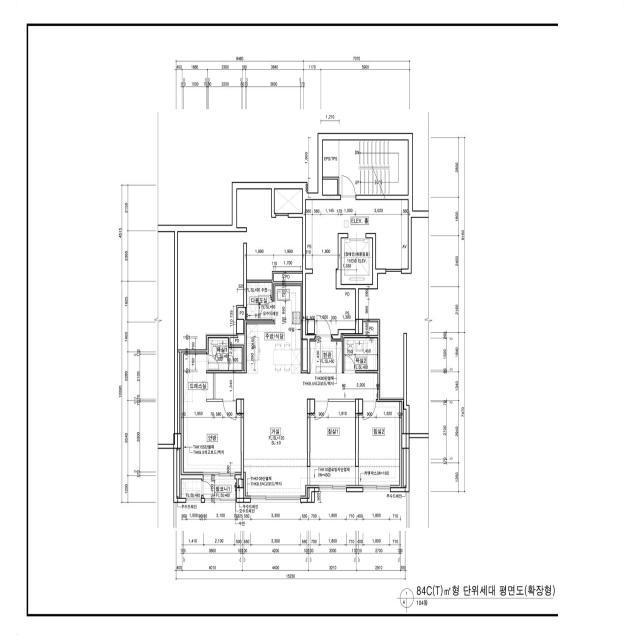space_balconi: (203, 479, 236, 498)
space_bedroom: (181, 402, 241, 474), (310, 402, 355, 487), (358, 402, 402, 487)
space_dressroom: (181, 352, 213, 399)
space_elevator: (341, 238, 372, 284)
space_elevator_hall: (306, 200, 401, 334)
space_front: (310, 337, 342, 373)
space_kitchen: (246, 284, 302, 373)
space_living_room: (215, 373, 378, 498)
space_multipurpose_space: (247, 282, 272, 320)
space_other: (178, 189, 302, 349), (359, 272, 404, 399), (230, 308, 245, 371), (275, 189, 302, 213), (323, 140, 339, 177), (306, 200, 312, 269), (402, 200, 408, 269), (323, 179, 337, 195), (274, 273, 302, 281), (363, 321, 378, 335), (303, 339, 307, 371), (403, 449, 406, 487), (177, 449, 179, 498), (178, 352, 179, 433), (403, 409, 406, 433), (238, 479, 242, 487), (306, 320, 307, 334)
space_outdoor_room: (181, 479, 201, 498)
space_staircase: (339, 140, 408, 195)
space_toilet: (344, 338, 377, 370), (209, 338, 242, 370)
